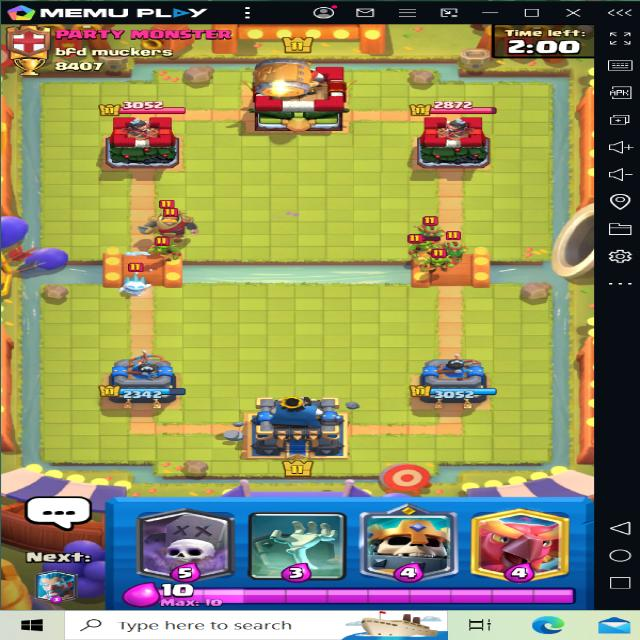goblin: (140, 238, 187, 265), (418, 251, 456, 276), (408, 232, 438, 254)
goblin-barrel: (241, 54, 320, 102)
ice-spirit: (115, 269, 156, 302)
knight: (140, 201, 202, 243)
spear-goblin: (442, 234, 476, 261), (409, 214, 441, 239)
